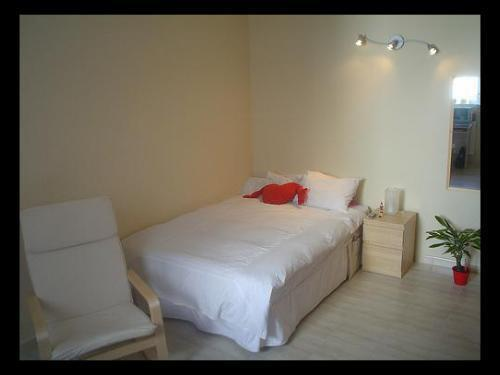Matera: (421, 223, 479, 288)
